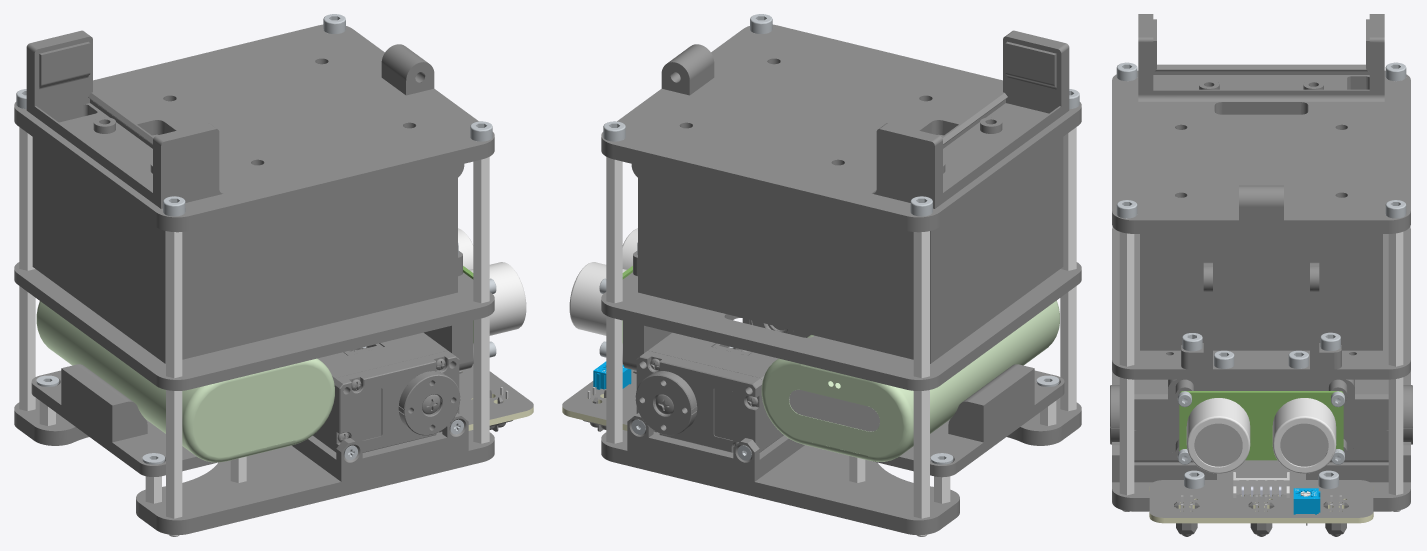
3 renders of one model, left to right at view 1: azimuth 30°, elevation 25°; view 2: azimuth 150°, elevation 25°; view 3: azimuth 270°, elevation 25°, orthographic. The views are drawn at different scales.
Visible parts, largest first — view 1: B3B-EH.006; view 2: B3B-EH.006; view 3: B3B-EH.006.
Boxes of the visible parts, x1,y1,x2,y2 form: B3B-EH.006: [14, 14, 533, 536]; B3B-EH.006: [562, 14, 1081, 536]; B3B-EH.006: [1110, 14, 1412, 536].
Bounding box in the file's own units: 0.1132 × 0.0811 × 0.107.
